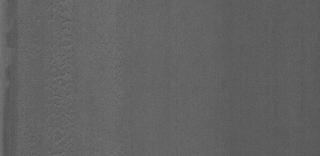silk spot: (37, 9, 81, 142)
